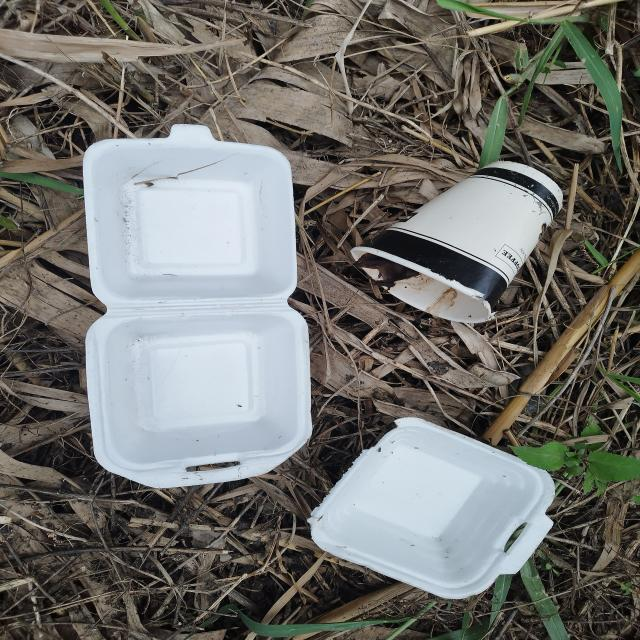foam box: (83, 124, 314, 490), (308, 418, 557, 601)
plastic glass: (352, 161, 563, 325)
